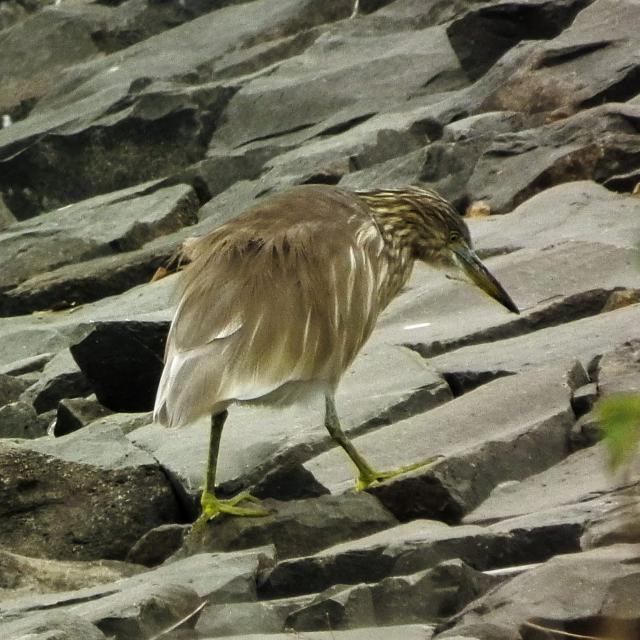heron: (155, 187, 523, 518)
